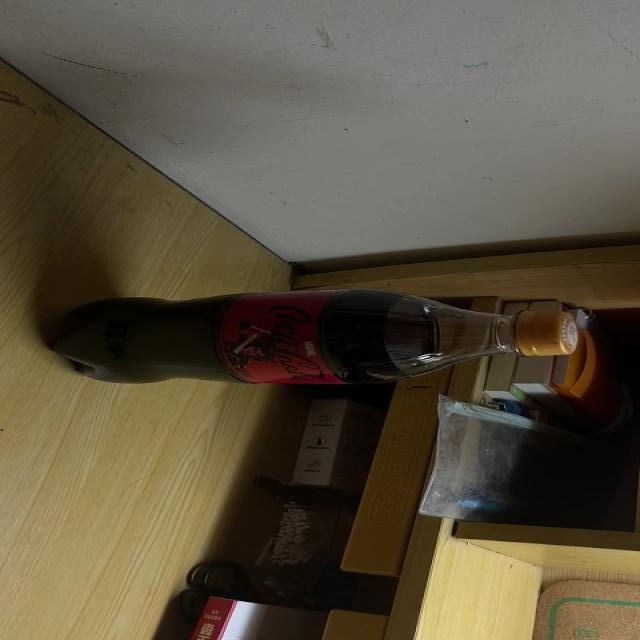Coca-Cola: (56, 288, 582, 386)
